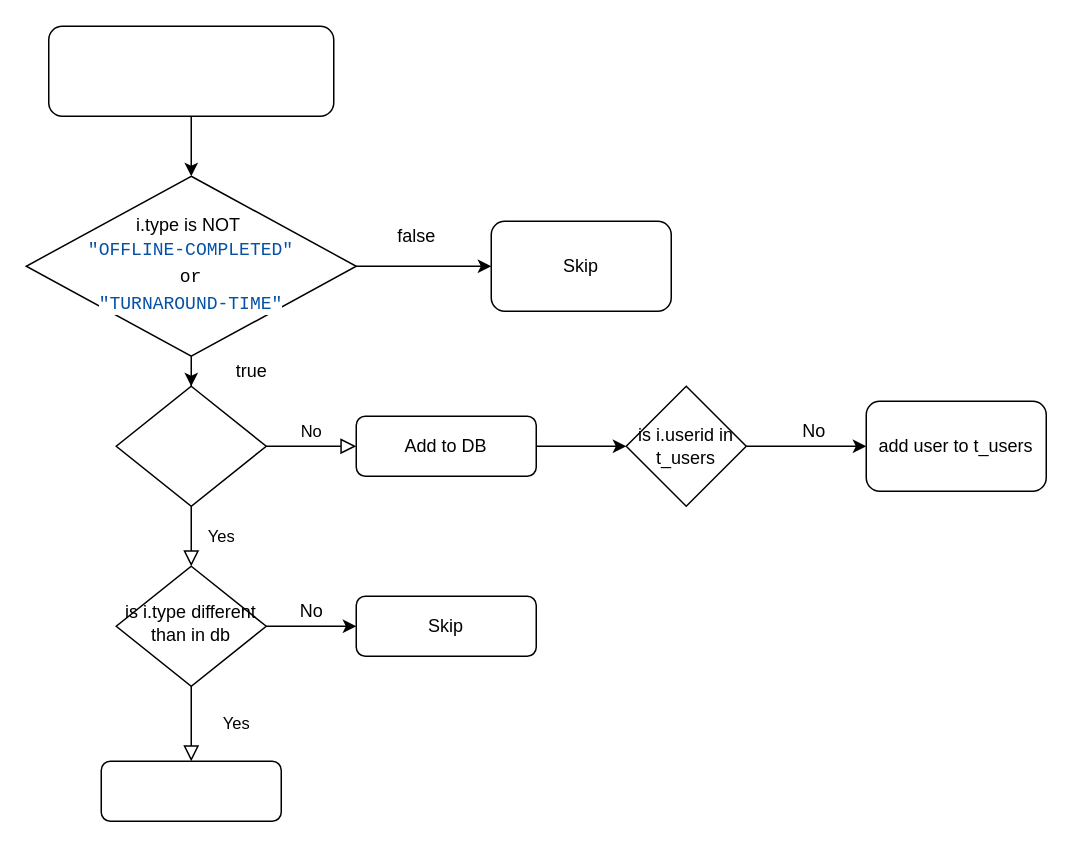
This 1073x848 diagram has some shape labels left out. Here are the shapes that lost their labels. From the top down, the box of each, then its label:
(47, 25, 334, 116): ReservationsResponse[i]
(115, 385, 266, 506): is i.name in db
(100, 760, 281, 821): update in DB
